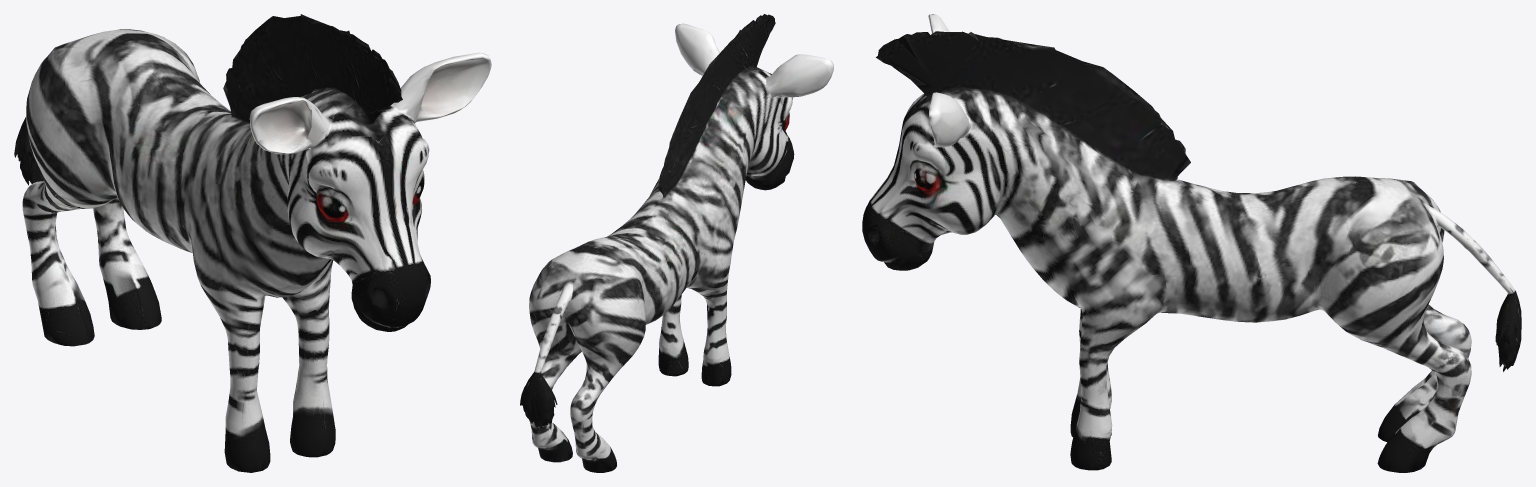
File: zebra.glb
The picture shows the model from 3 angles, left to right: view 1: azimuth 30°, elevation 25°; view 2: azimuth 150°, elevation 25°; view 3: azimuth 270°, elevation 25°; orthographic projection. The views are drawn at different scales.
Bounding box in the file's own units: 0.7006 × 1.33 × 1.9.
1 material, 1 textured.
